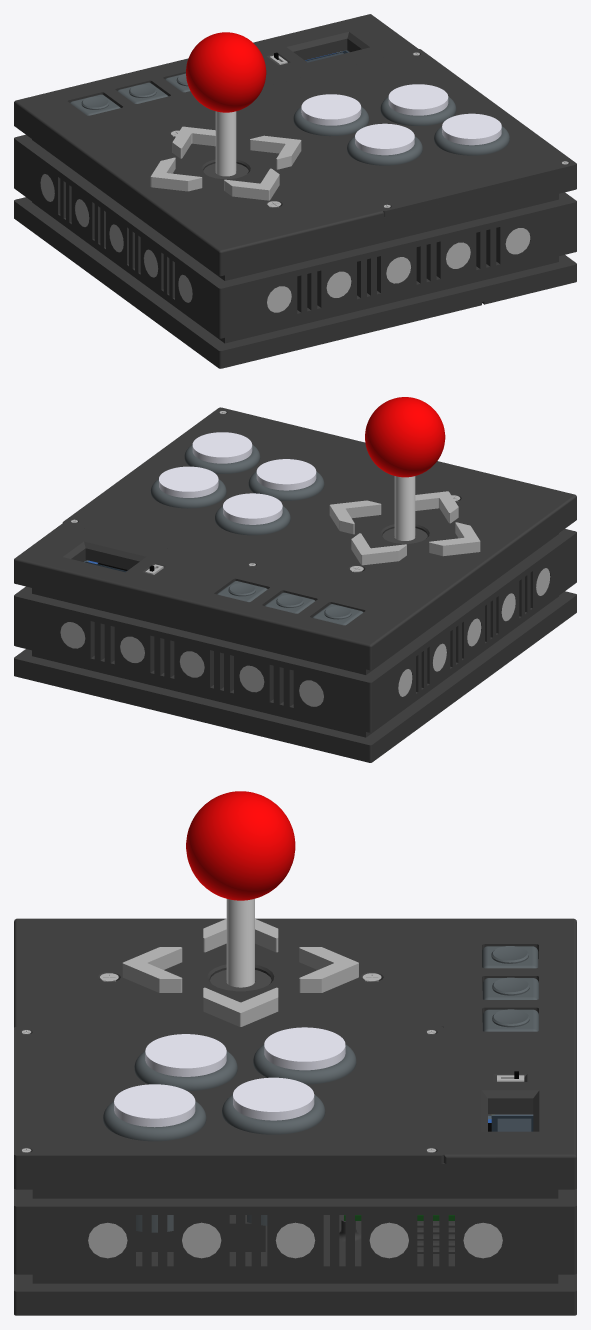
Rendered from TP1_A_180_JOYSTICK.glb.
3 renders of one model, top to bottom at view 1: azimuth 30°, elevation 25°; view 2: azimuth 150°, elevation 25°; view 3: azimuth 270°, elevation 25°, orthographic. The views are drawn at different scales.
Parts seen in each view (by area): view 1: Solid1 (×25); view 2: Solid1 (×25); view 3: Solid1 (×27).
Boxes of the visible parts, x1,y1,x2,y2 form: Solid1 (×25): (14, 14, 576, 368); Solid1 (×25): (14, 397, 576, 762); Solid1 (×27): (14, 791, 576, 1315).
Bounding box in the file's own units: 0.18 × 0.1203 × 0.18.
